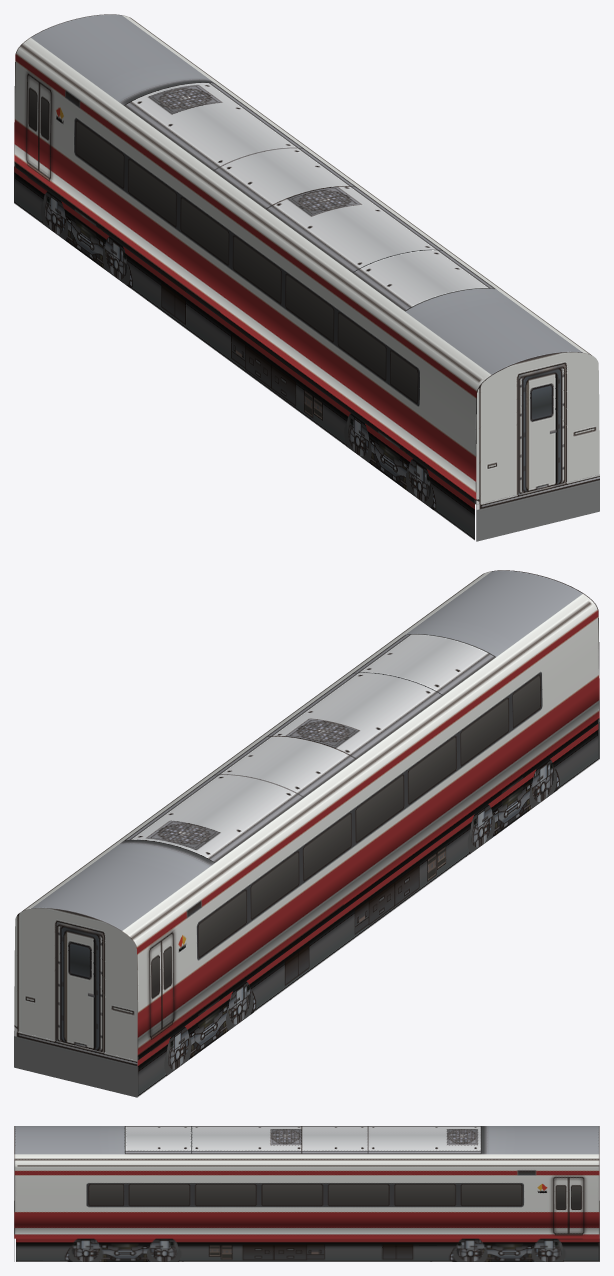
Rendered from car2.glb.
3 renders of one model, top to bottom at view 1: azimuth 30°, elevation 25°; view 2: azimuth 150°, elevation 25°; view 3: azimuth 270°, elevation 25°, orthographic. The views are drawn at different scales.
Parts seen in each view (by area): view 1: nankai-31000-car2; view 2: nankai-31000-car2; view 3: nankai-31000-car2.
Part boxes in pixels (x1=…): nankai-31000-car2: x1=14, y1=14, x2=599, y2=541; nankai-31000-car2: x1=14, y1=570, x2=599, y2=1097; nankai-31000-car2: x1=14, y1=1126, x2=599, y2=1261.
Bounding box in the file's own units: 2.74 × 3.6 × 17.81.
9 materials, 8 textured.
